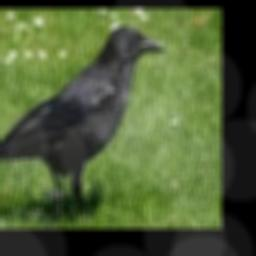Crow: (0, 25, 166, 214)
